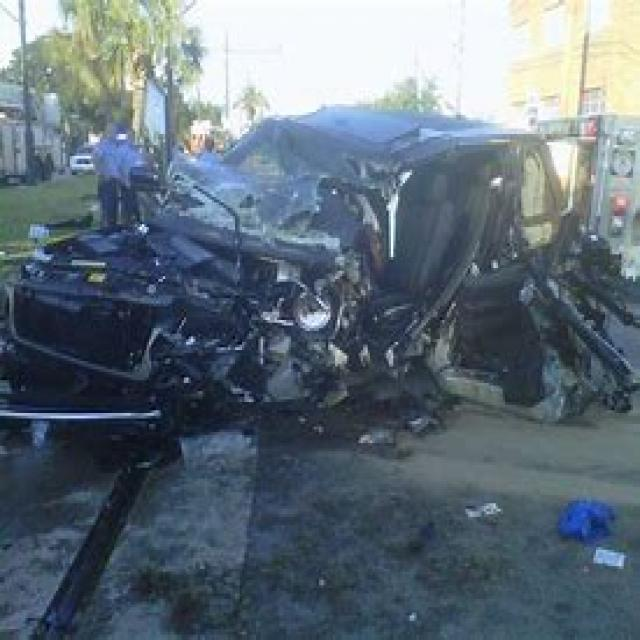Accident: (48, 97, 640, 450)
